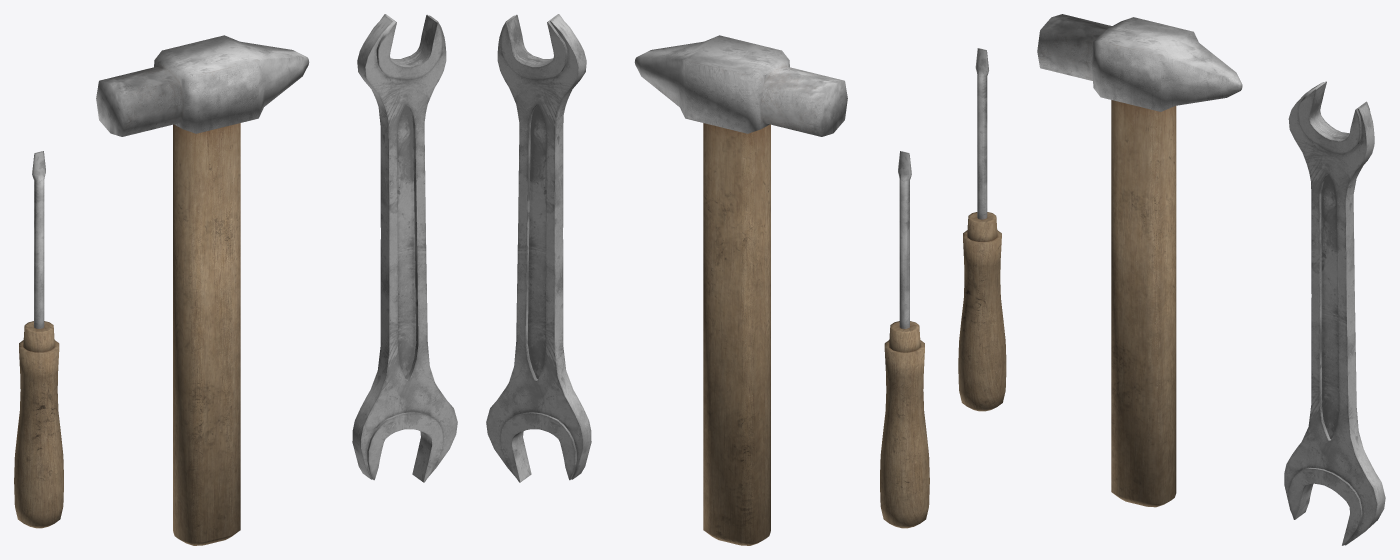
Rendered from toolkit_3D.glb.
The picture shows the model from 3 angles, left to right: view 1: azimuth 30°, elevation 25°; view 2: azimuth 150°, elevation 25°; view 3: azimuth 330°, elevation 25°; orthographic projection. The views are drawn at different scales.
Visible parts, largest first — view 1: Hammer, M_Wood, Screwdriver; view 2: Hammer, M_Wood, Screwdriver; view 3: Hammer, M_Wood, Screwdriver.
Boxes of the visible parts, x1=… form: Hammer: x1=96, y1=35, x2=309, y2=545; M_Wood: x1=352, y1=14, x2=457, y2=482; Screwdriver: x1=14, y1=151, x2=63, y2=528; Hammer: x1=634, y1=35, x2=847, y2=545; M_Wood: x1=486, y1=14, x2=591, y2=482; Screwdriver: x1=880, y1=151, x2=929, y2=528; Hammer: x1=1037, y1=14, x2=1242, y2=507; M_Wood: x1=1284, y1=81, x2=1385, y2=545; Screwdriver: x1=958, y1=48, x2=1006, y2=411.
Size of the model in its own units: 0.3102 by 0.3268 by 0.0422.
Materials: 1 (1 with a texture image).
